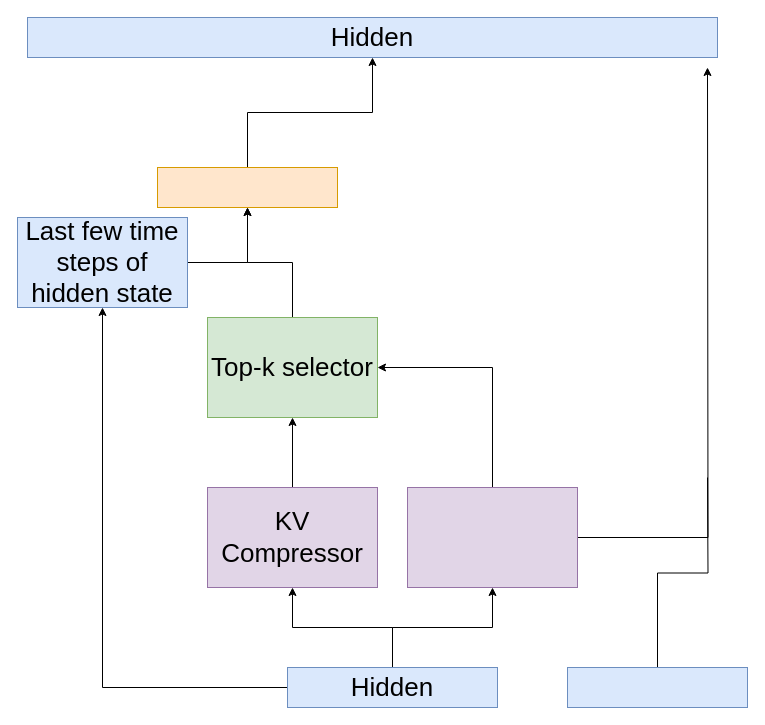
This 765x725 diagram has some shape labels left out. The shapes that lost their labels are listed below. From the top down, each one's centre as x and y in pixels, then its label:
[247,187]: Concatenate
[492,537]: Indexer
[657,687]: Query Hidden
